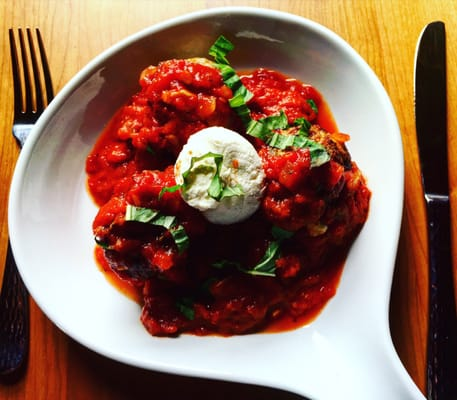sandwich: (418, 9, 457, 397), (414, 21, 449, 385)
sushi: (5, 7, 446, 400)
